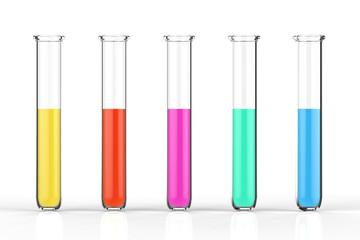Test tube: (280, 27, 345, 213), (212, 21, 258, 209), (94, 22, 134, 211), (27, 23, 66, 212), (165, 20, 190, 212)
